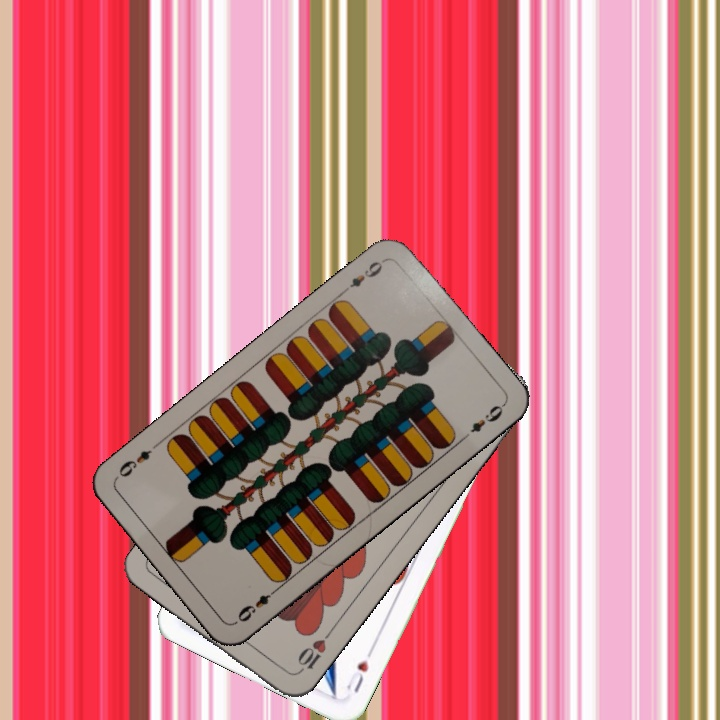E9: (231, 583, 281, 626), (339, 255, 388, 296)
H10: (292, 626, 334, 677)
HU: (342, 644, 376, 696)
